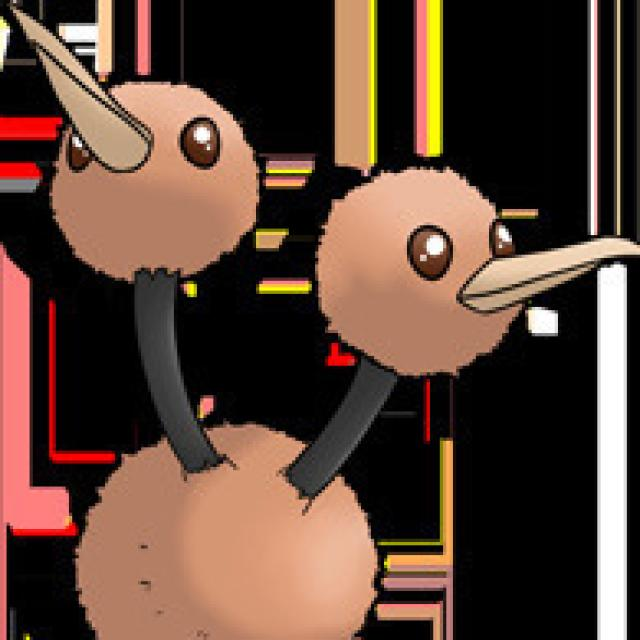Doduo: (49, 62, 532, 640)
